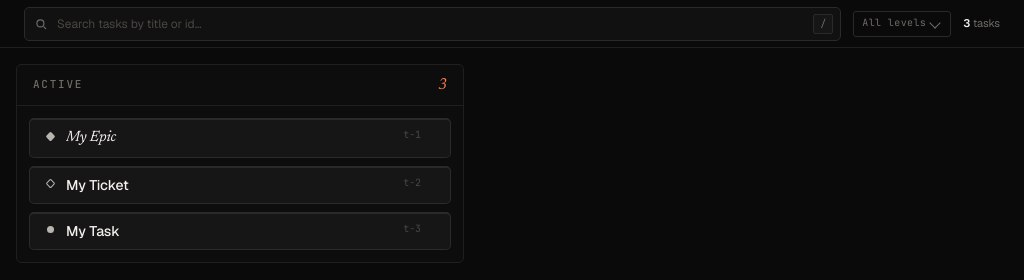
Test: KanbanBoard › filtering by level › shows only matching tasks when level filter is applied
Expected: the heading "My Epic" is shown, [66,130,116,145]
Expected: the heading "My Ticket" is shown, [66,176,129,194]
# Filter to epic only
Select "Epics only" in the dropdown named "Filter by level" at point(902, 24), box [853,10,951,36]
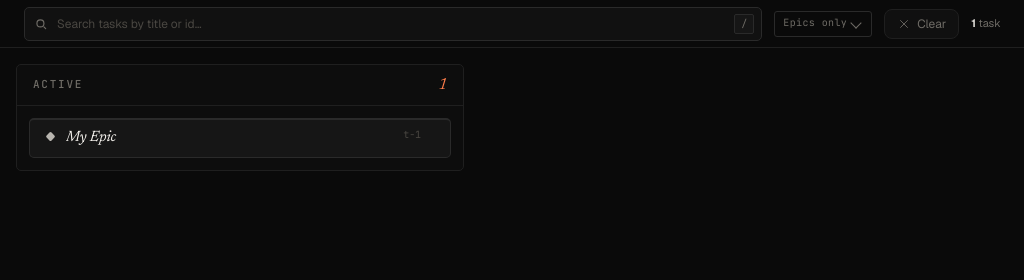
Expected: the heading "My Epic" is shown, [66,130,116,145]
Expected: the button "My Ticket" is gone
Expected: the button "My Task" is gone
